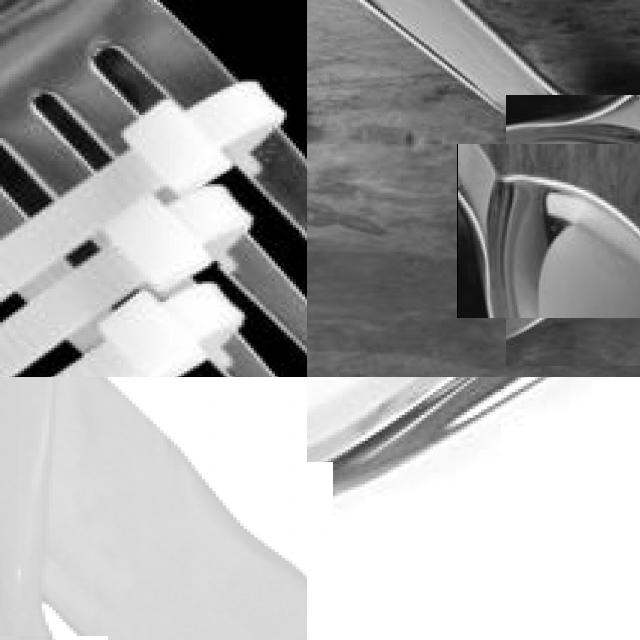forks: (0, 0, 307, 377)
spoons: (481, 120, 640, 342)
